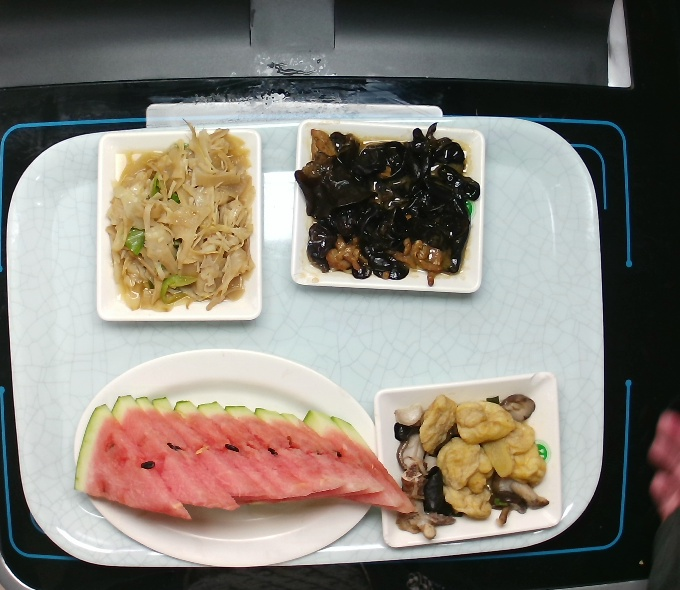wcq-LuSun: (106, 118, 260, 317)
wcq-MuErChaoRou: (286, 122, 484, 294)
wcq-XiGua: (70, 389, 419, 529)
wcq-YouPaoPaiGu: (388, 389, 552, 542)
